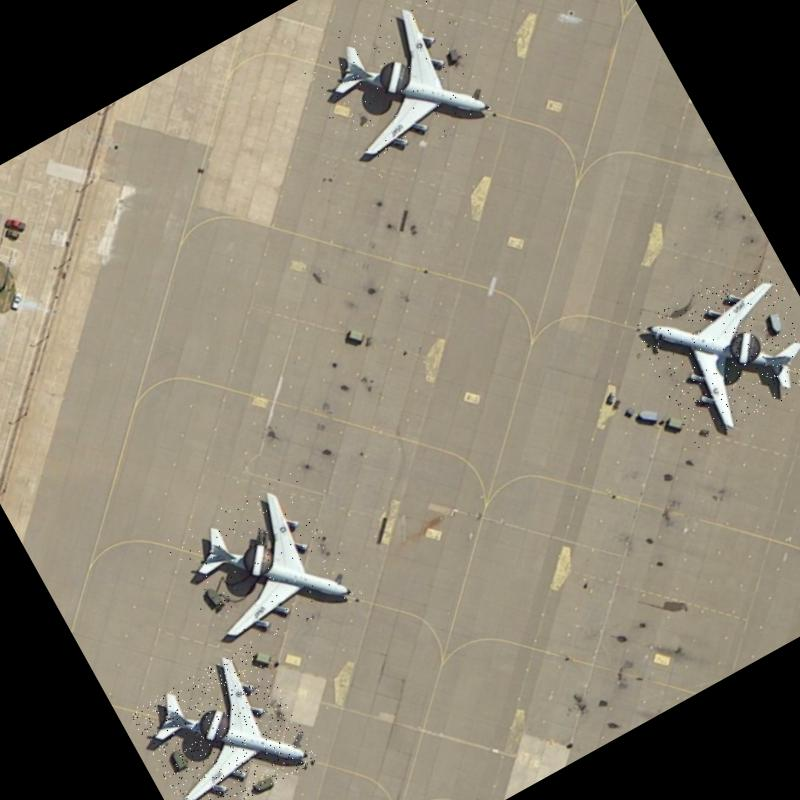A7: (162, 468, 364, 668), (293, 0, 501, 183), (629, 254, 800, 450), (128, 641, 320, 800)
